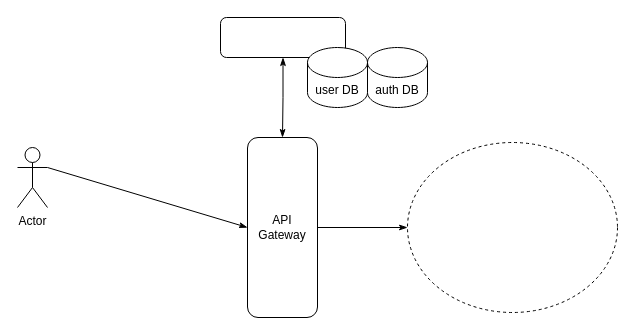
The diagram is 635 pixels wide and 335 high, and some of its shapes have lost their labels. Each missing label, with the centre of its shape:
Auth Service: [283,37]
Microservice Cluster: [512,227]
